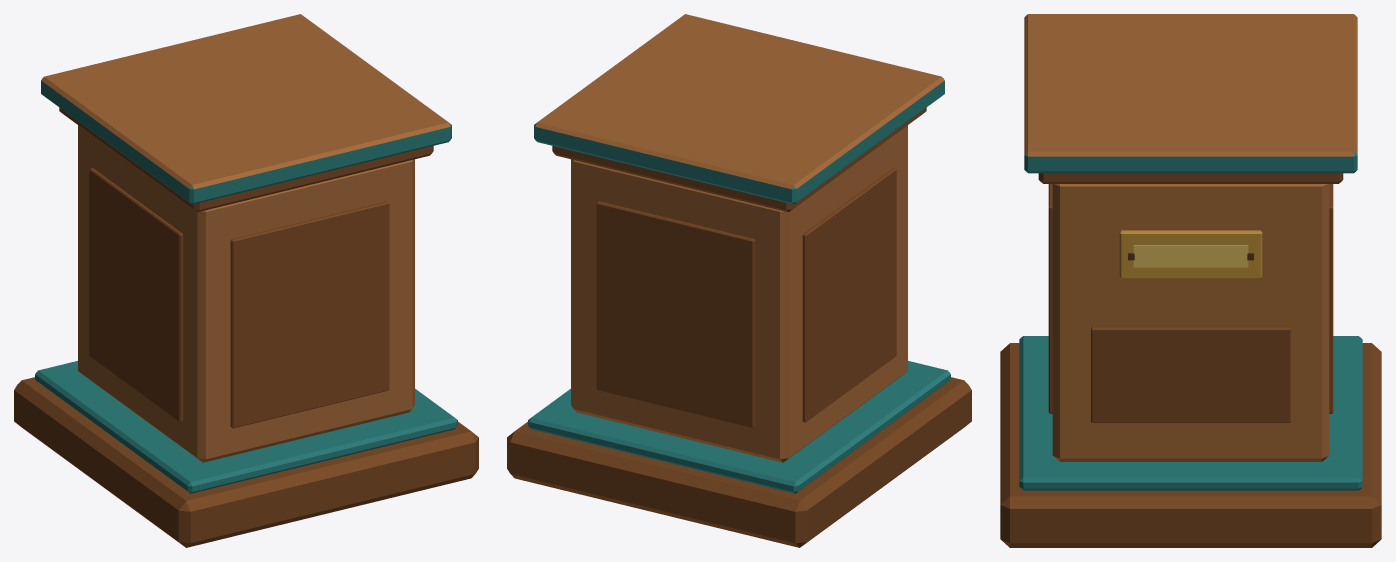
Rendered from display_stand.glb.
3 renders of one model, left to right at view 1: azimuth 30°, elevation 25°; view 2: azimuth 150°, elevation 25°; view 3: azimuth 270°, elevation 25°, orthographic. The views are drawn at different scales.
Visible parts, largest first — view 1: display_stand; view 2: display_stand; view 3: display_stand.
Part boxes in pixels (x1,y1,x2,y2): display_stand: [14, 14, 478, 547]; display_stand: [507, 14, 971, 547]; display_stand: [1000, 14, 1381, 547].
Bounding box in the file's own units: 0.8 × 0.9 × 0.8.
